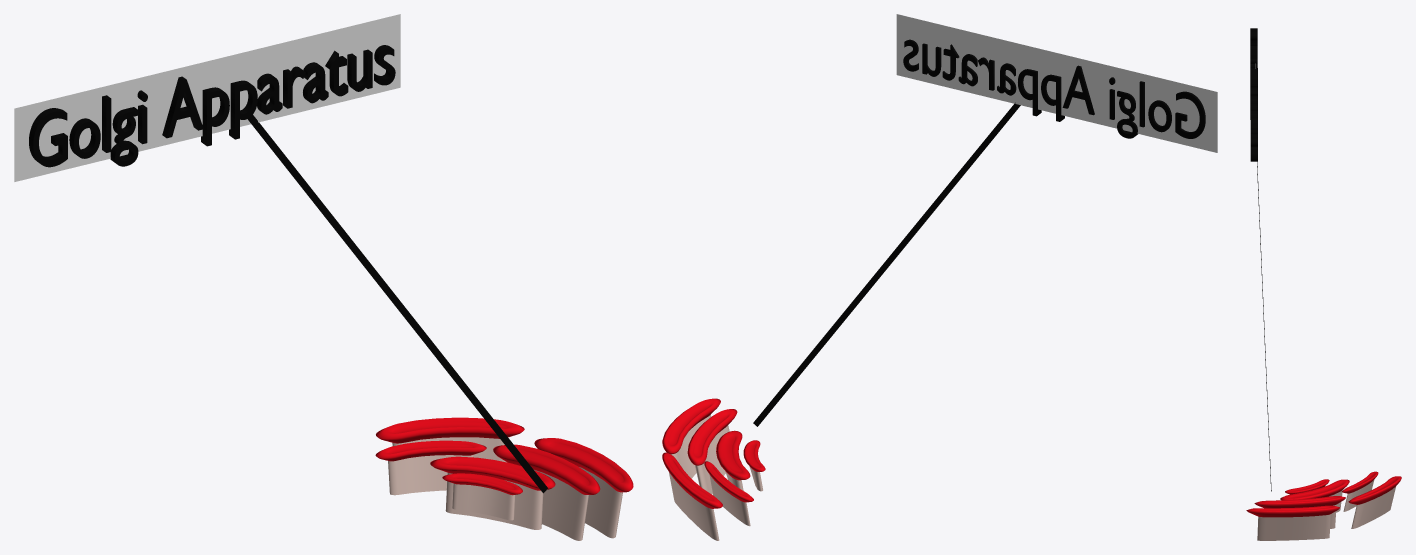
File: golgi.gltf
The picture shows the model from 3 angles, left to right: view 1: azimuth 30°, elevation 25°; view 2: azimuth 150°, elevation 25°; view 3: azimuth 270°, elevation 25°; orthographic projection. The views are drawn at different scales.
Parts seen in each view (by area): view 1: Plane.006, Text.006, Red_Top, Base_Red, Plane.029; view 2: Plane.006, Text.006, Red_Top, Base_Red, Plane.029; view 3: Red_Top, Base_Red, Text.006, Plane.029.
Part boxes in pixels (x1=…): Plane.006: x1=14, y1=14, x2=400, y2=181; Text.006: x1=29, y1=45, x2=395, y2=167; Red_Top: x1=375, y1=417, x2=633, y2=495; Base_Red: x1=388, y1=437, x2=622, y2=540; Plane.029: x1=247, y1=115, x2=547, y2=493; Plane.006: x1=896, y1=14, x2=1217, y2=152; Text.006: x1=903, y1=39, x2=1205, y2=138; Red_Top: x1=662, y1=398, x2=765, y2=508; Base_Red: x1=669, y1=414, x2=762, y2=540; Plane.029: x1=753, y1=102, x2=1020, y2=426; Red_Top: x1=1246, y1=471, x2=1401, y2=517; Base_Red: x1=1257, y1=480, x2=1395, y2=540; Text.006: x1=1250, y1=28, x2=1257, y2=161; Plane.029: x1=1257, y1=162, x2=1271, y2=491.
Size of the model in its own units: 2.15 by 1.92 by 0.7686.
